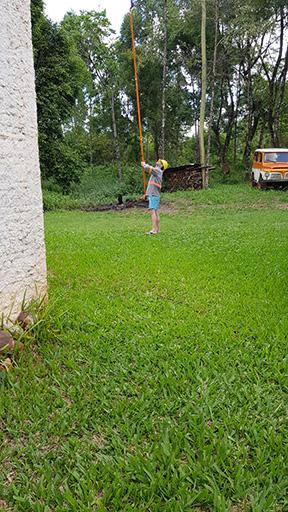Vara_Manobra: (128, 3, 148, 194)
